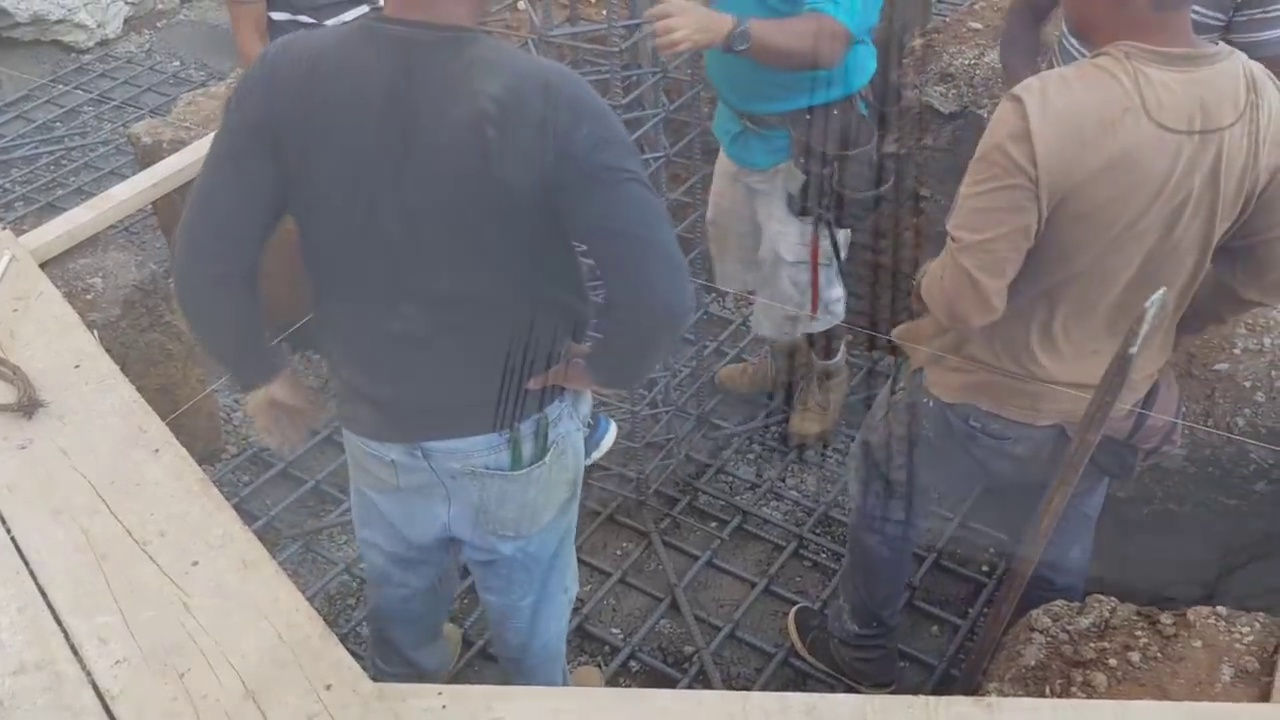person: (154, 0, 697, 690), (786, 0, 1280, 694), (657, 0, 883, 412)
